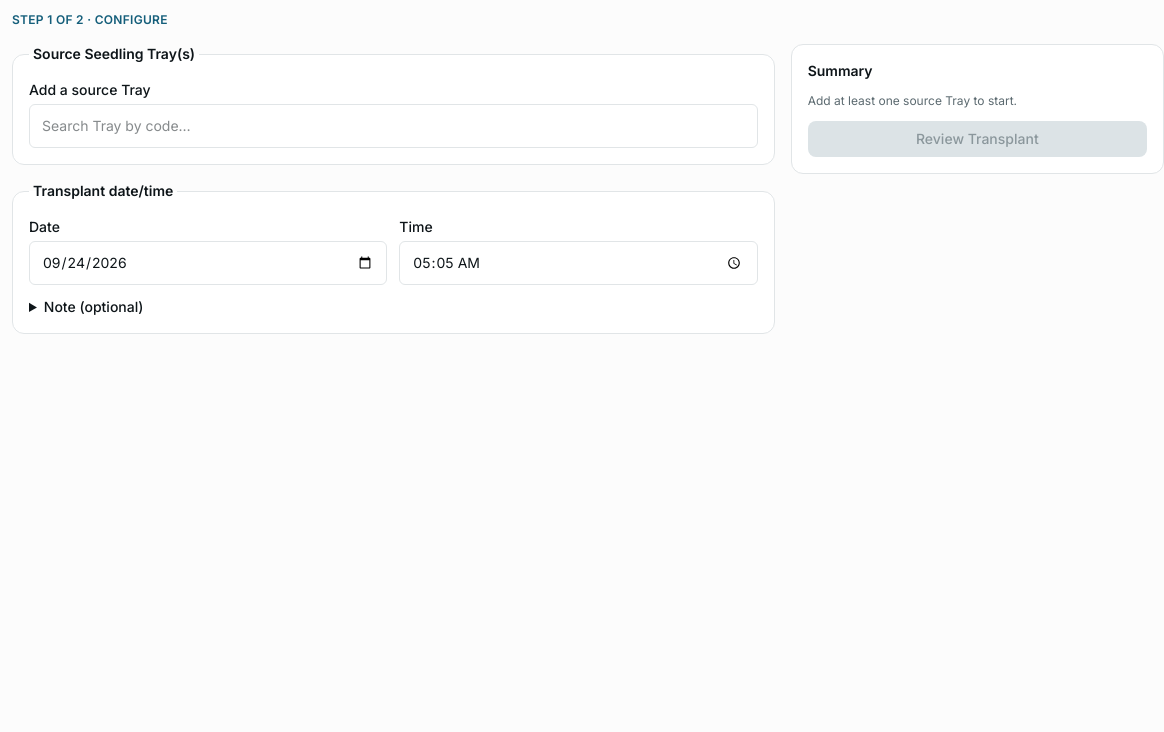
Scenario: IntersaladsTransplantForm › establishes the Batch from the first source Tray selected
Focus the dropdown labelled "Add a source Tray" at (393, 126), box [29,104,758,148]
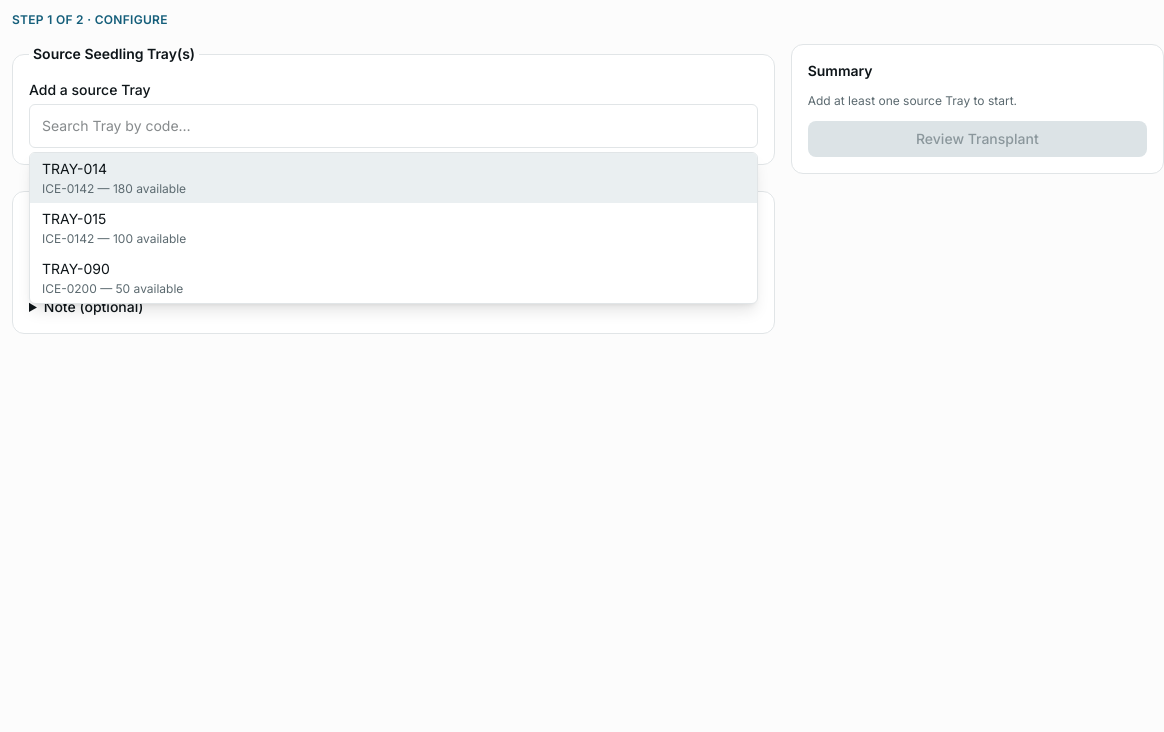
expect the text "TRAY-014" is shown: met
Click the text "TRAY-014" at (75, 169), box [42,159,107,179]
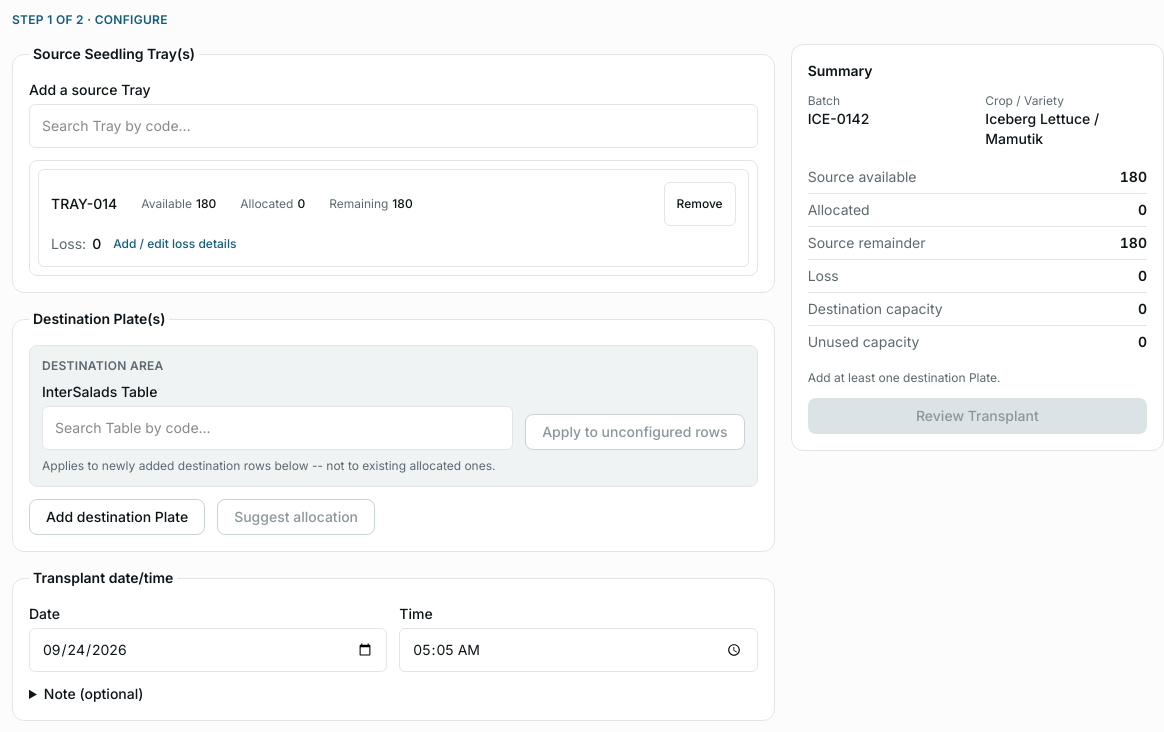
expect the text "ICE-0142" is shown: met, box [808,110,869,127]
expect the text "Iceberg Lettuce / Mamutik" is shown: met, box [985,110,1099,147]
